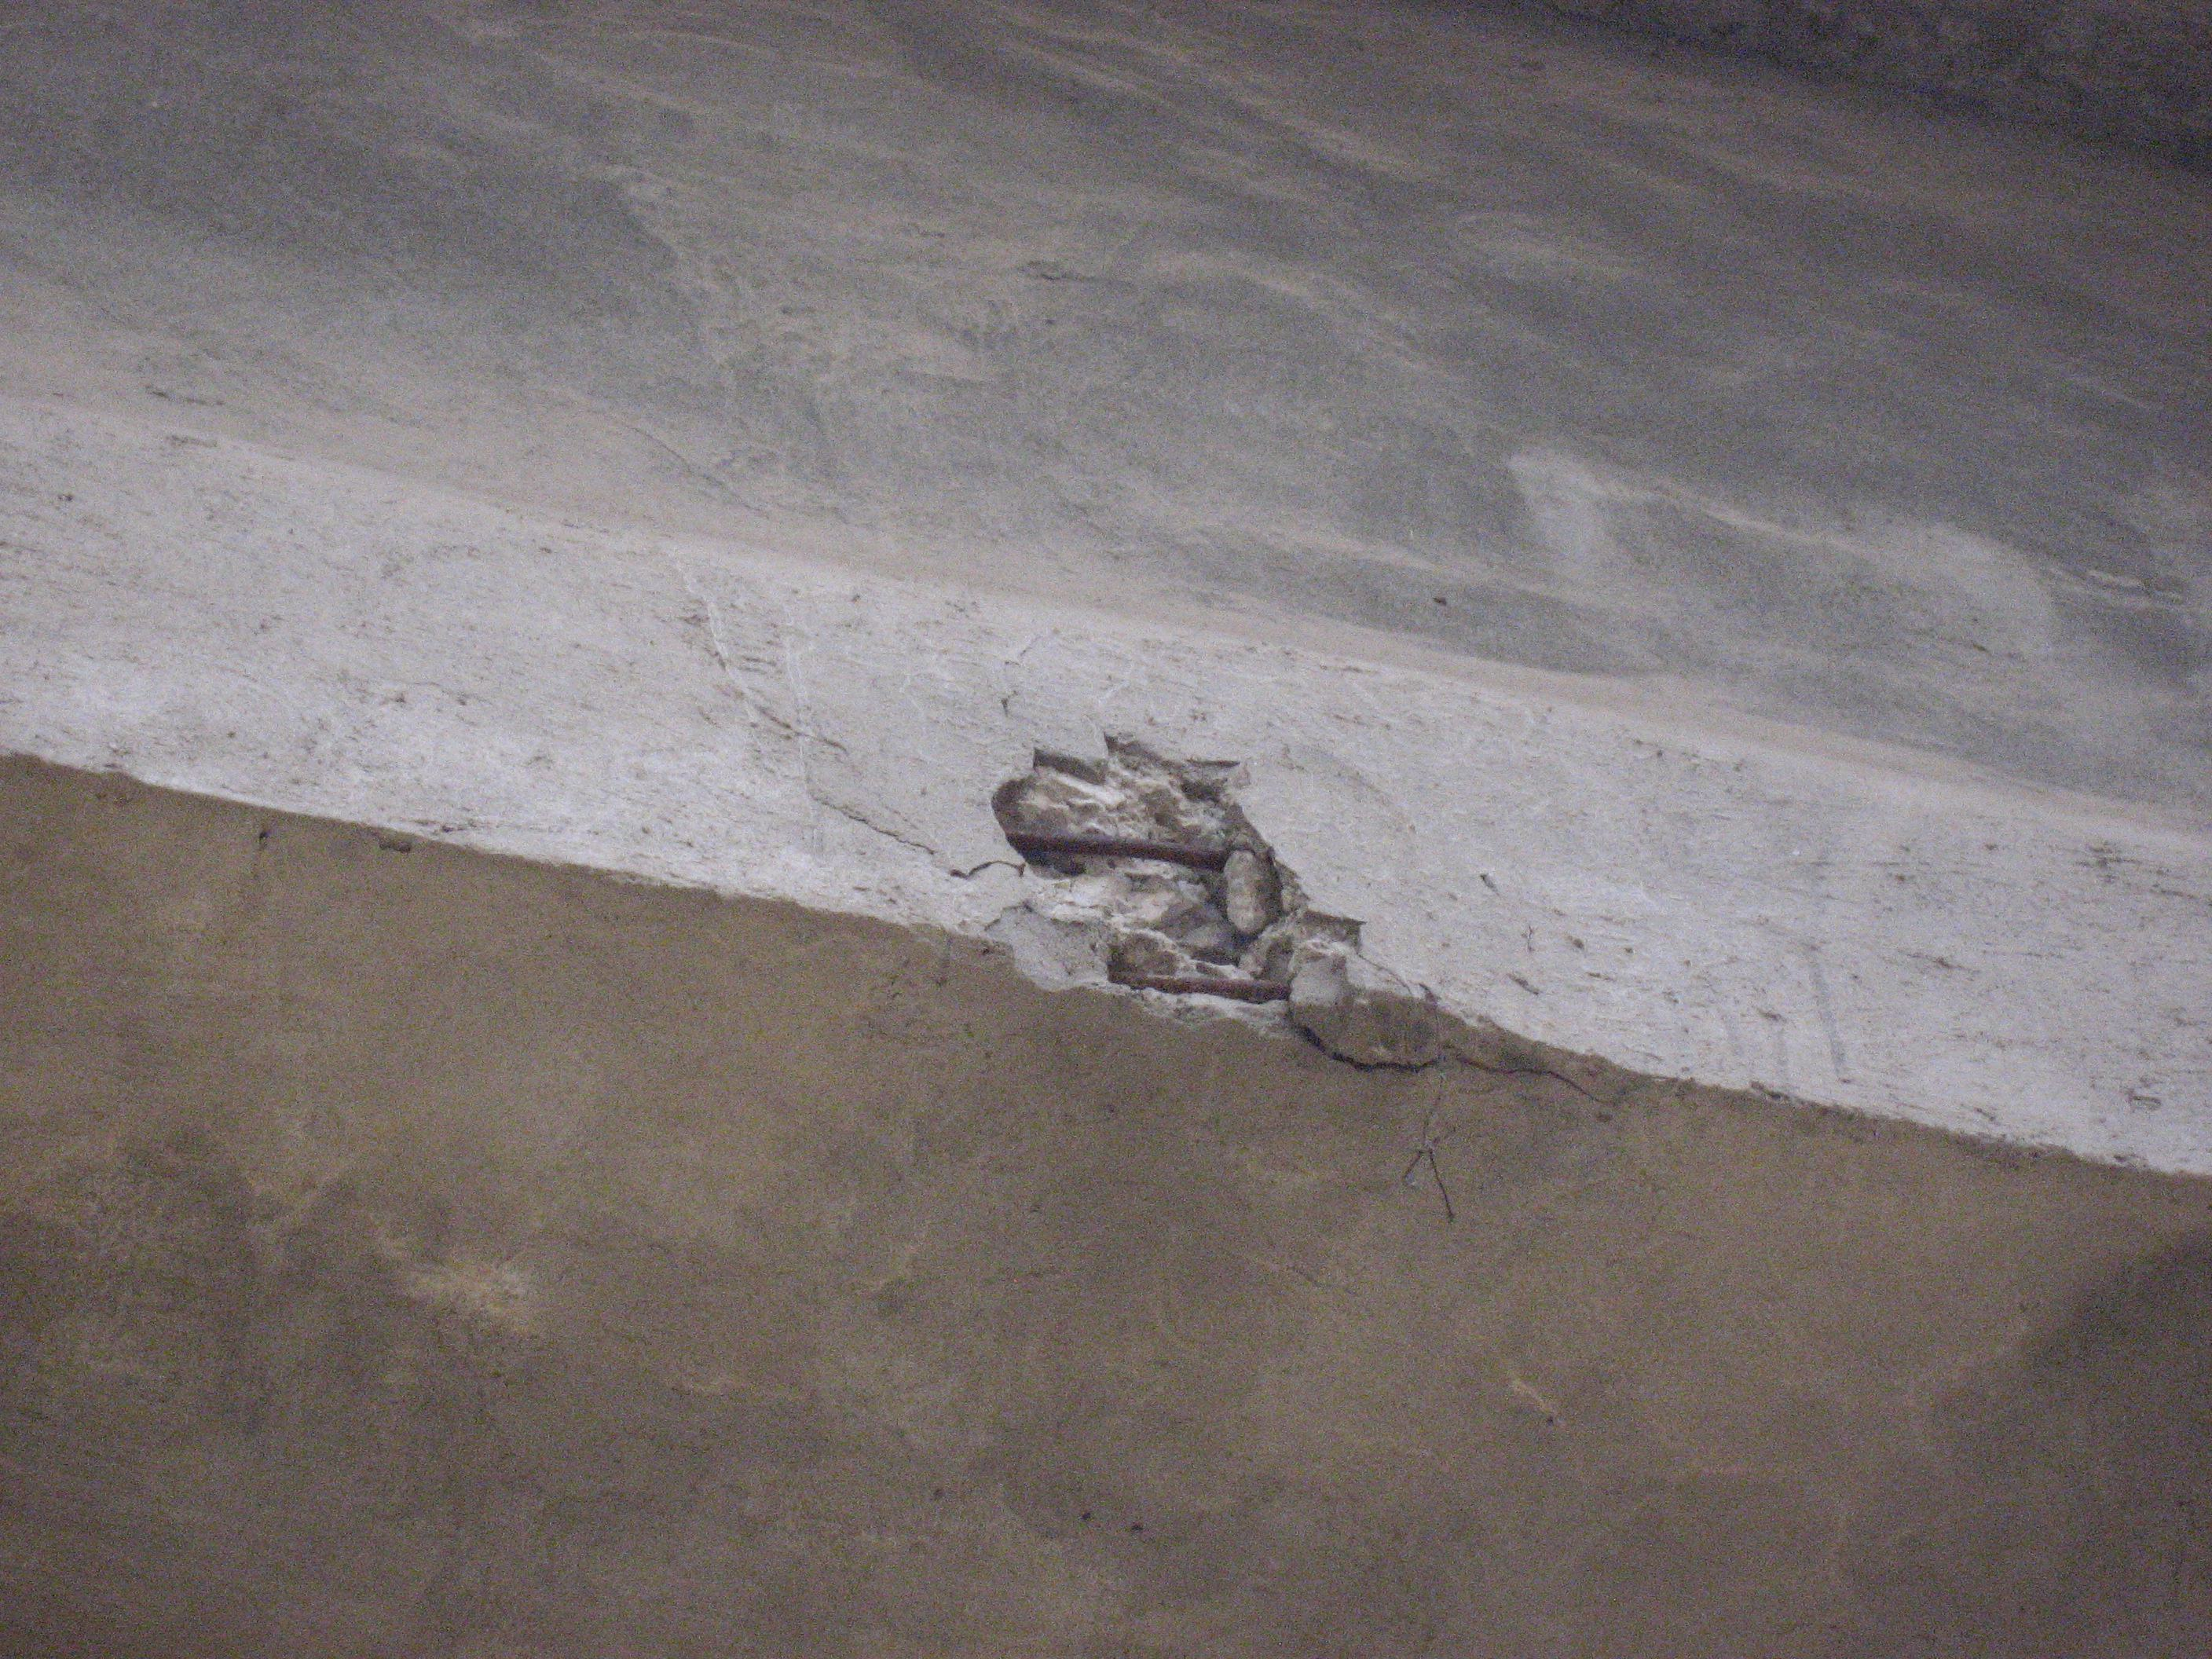Crack: (1289, 1006, 1608, 1107), (812, 796, 1026, 880)
Exposed reinforcement: (1001, 828, 1230, 873), (1106, 969, 1292, 1006)
Spalling: (981, 732, 1367, 1030)
